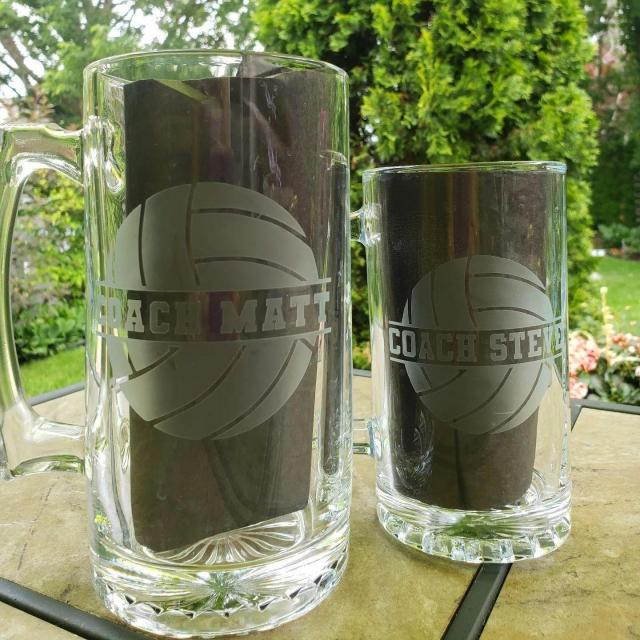glass-mug: (0, 43, 371, 640), (357, 152, 583, 574)
